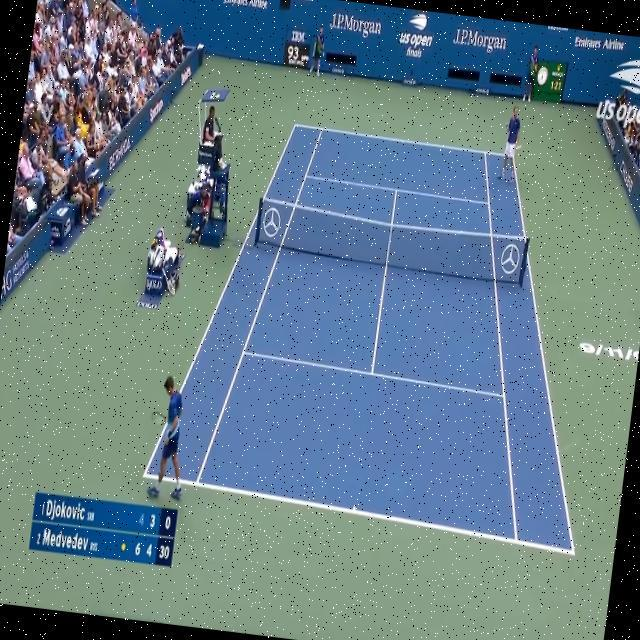Emirates: (575, 34, 602, 50), (222, 0, 248, 7)
